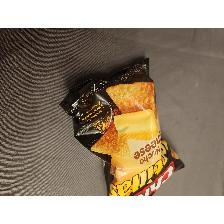Chips: (59, 56, 187, 196)
